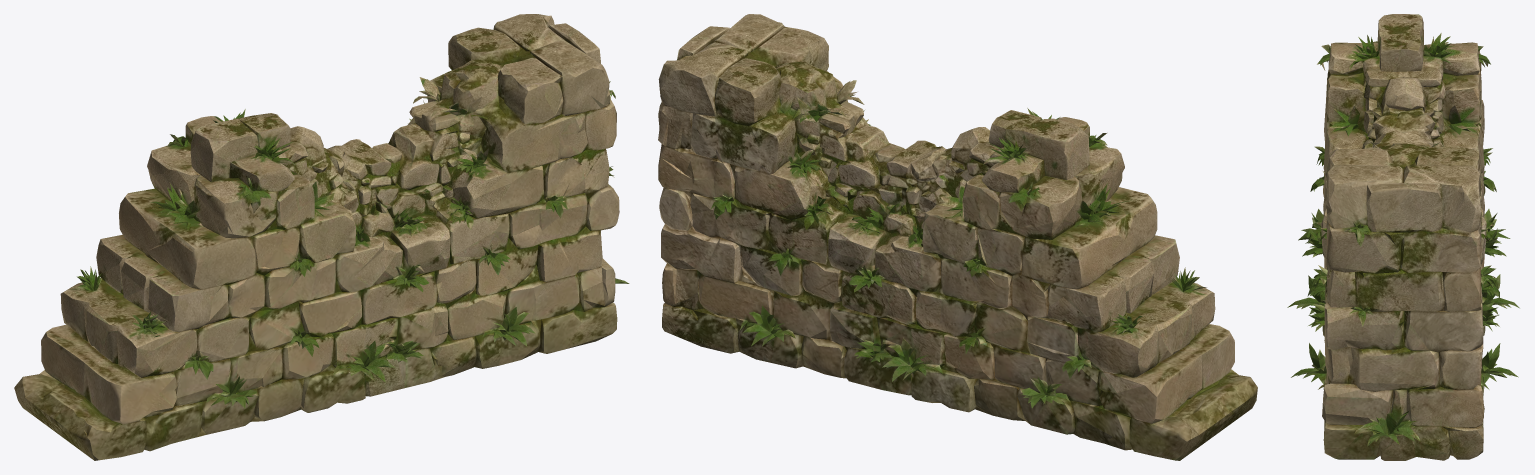
File: yikik_duvar.glb
3 views of the same model, side by side, from view 1: azimuth 30°, elevation 25°; view 2: azimuth 150°, elevation 25°; view 3: azimuth 270°, elevation 25° (orthographic).
Visible parts, largest first — view 1: Mesh_0; view 2: Mesh_0; view 3: Mesh_0.
Boxes of the visible parts, bbox=[...] form: Mesh_0: bbox=[14, 14, 629, 460]; Mesh_0: bbox=[658, 14, 1257, 460]; Mesh_0: bbox=[1287, 14, 1519, 460].
Bounding box in the file's own units: 1.92 × 0.8973 × 0.6928.
1 material, 1 textured.
